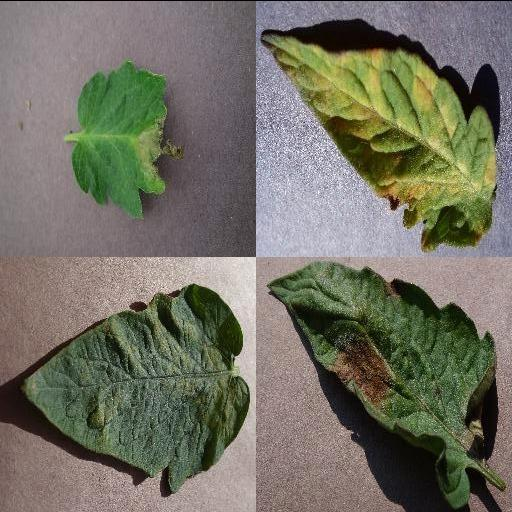Late Blight: (264, 260, 498, 510), (71, 57, 187, 219)
Leaf Mold: (260, 32, 500, 250)
Spider Mites: (19, 281, 251, 491)
